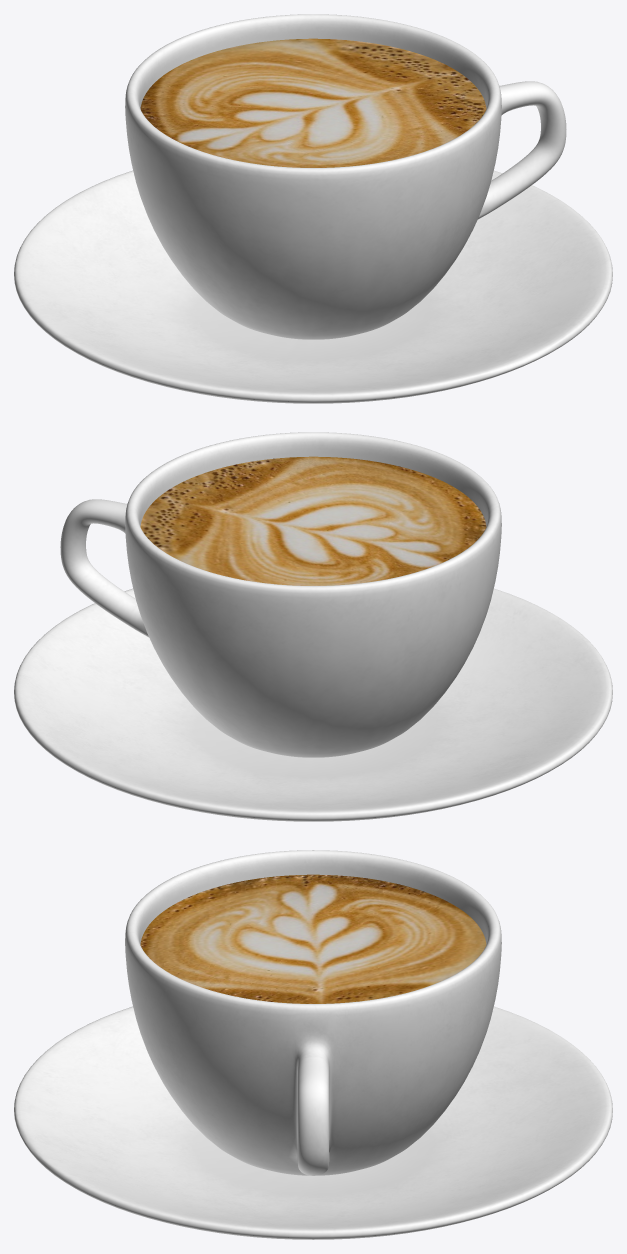
The model's file is coffee-cup.glb.
3 views of the same model, one above another, from view 1: azimuth 30°, elevation 25°; view 2: azimuth 150°, elevation 25°; view 3: azimuth 270°, elevation 25° (orthographic).
Parts seen in each view (by area): view 1: Coffee_Cup; view 2: Coffee_Cup; view 3: Coffee_Cup.
Part boxes in pixels (box(x1,y1,x2,y2)): Coffee_Cup: box(14, 14, 612, 403); Coffee_Cup: box(14, 432, 612, 821); Coffee_Cup: box(14, 850, 612, 1239).
Size of the model in its own units: 0.1985 by 0.085 by 0.1985.
1 material, 1 textured.
